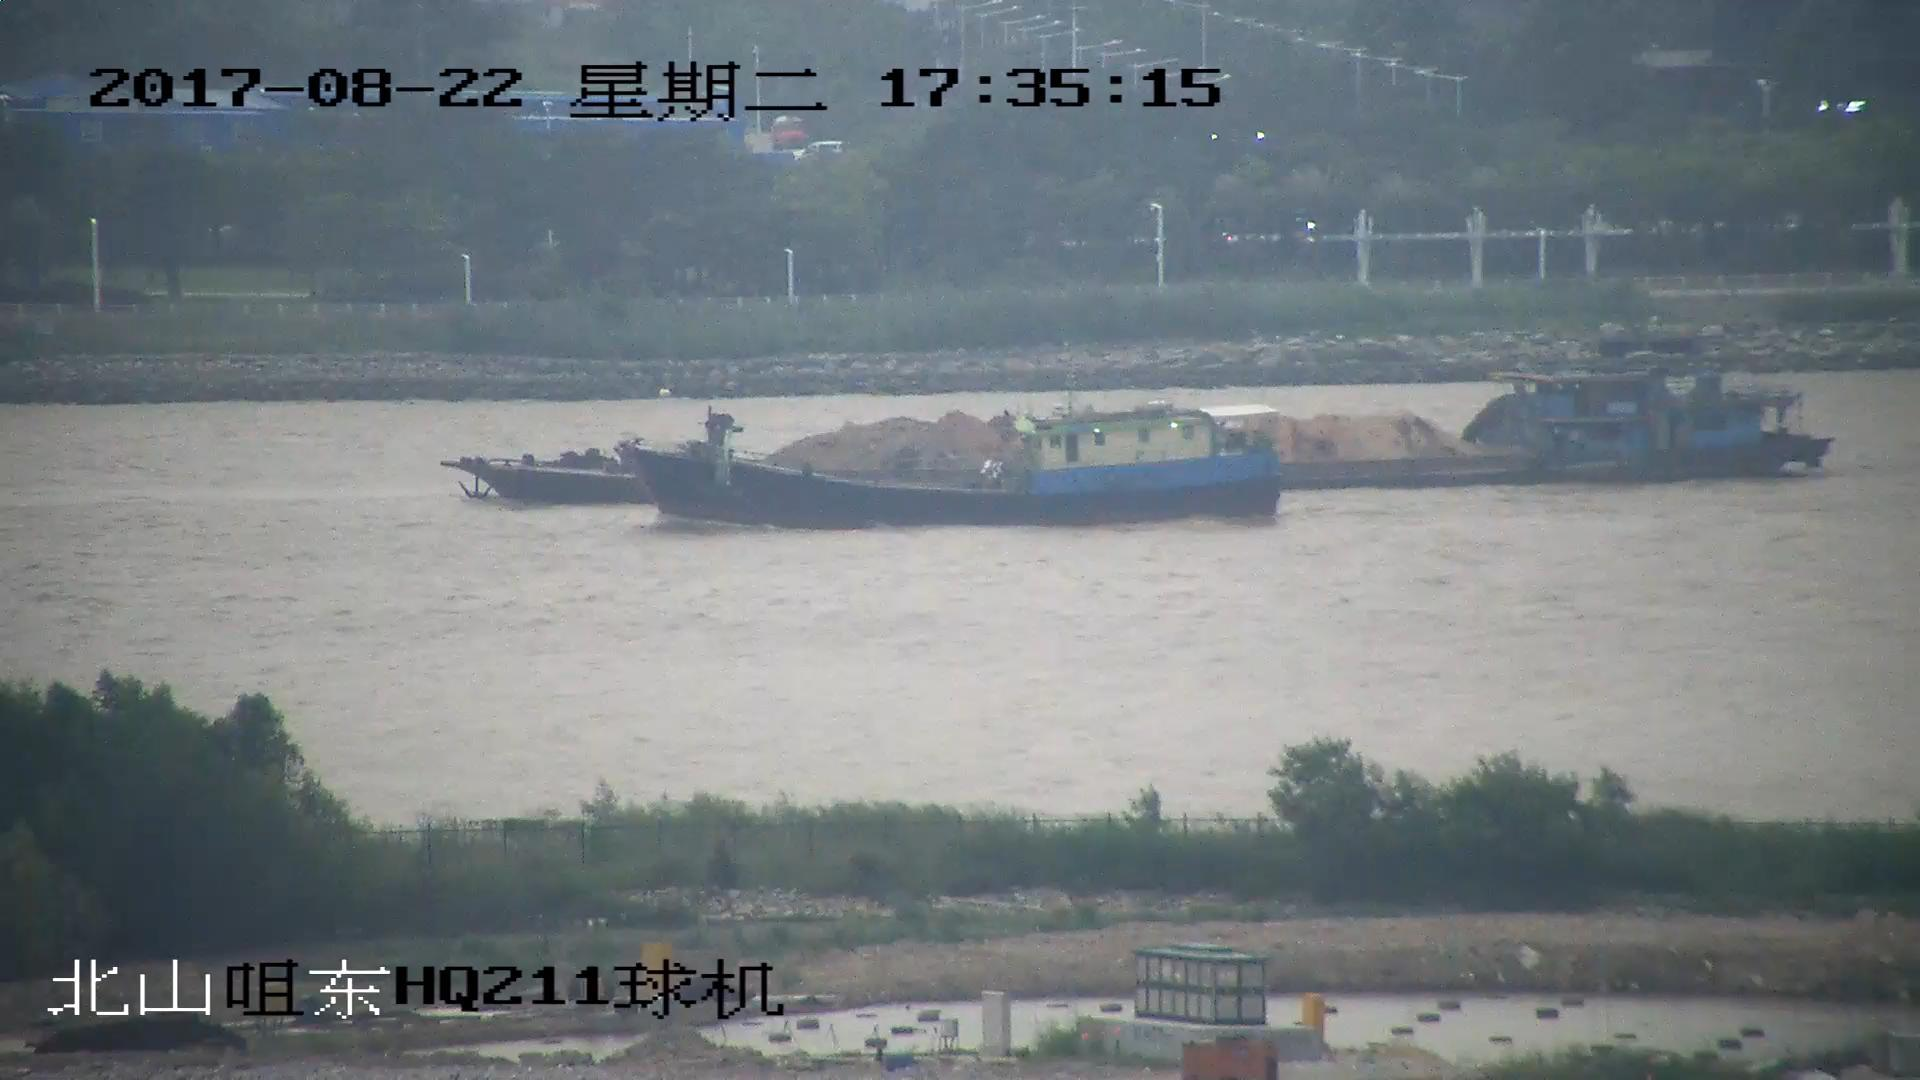Ship: (448, 355, 1834, 506), (630, 389, 1279, 525)
